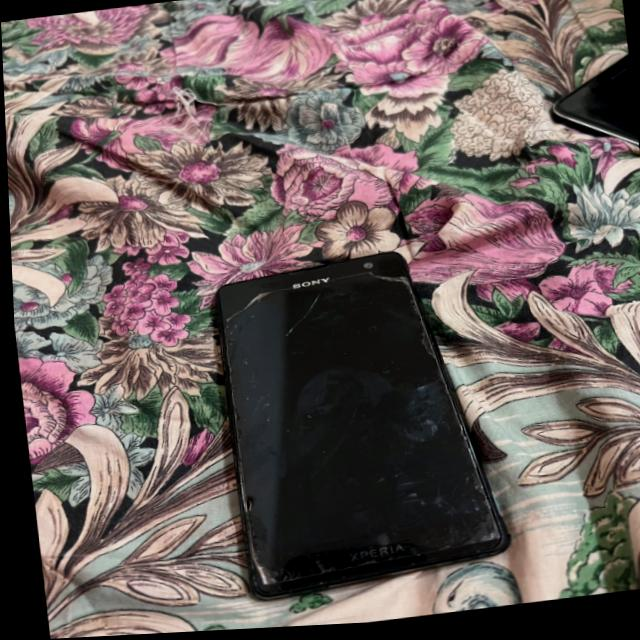Smartphone: (214, 256, 505, 602)
